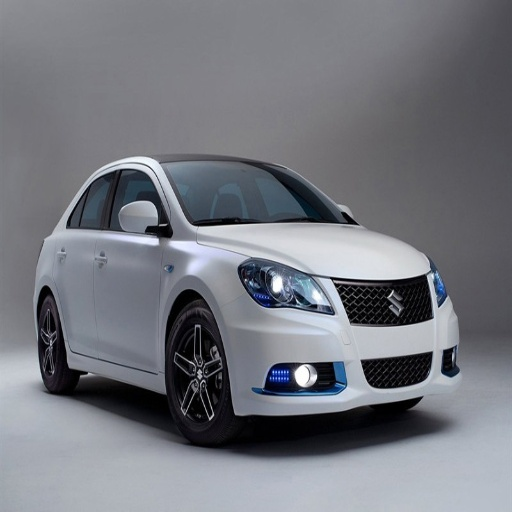front_bumper: (218, 273, 457, 412)
front_right_door: (95, 164, 169, 372)
front_right_light: (238, 256, 334, 313)
